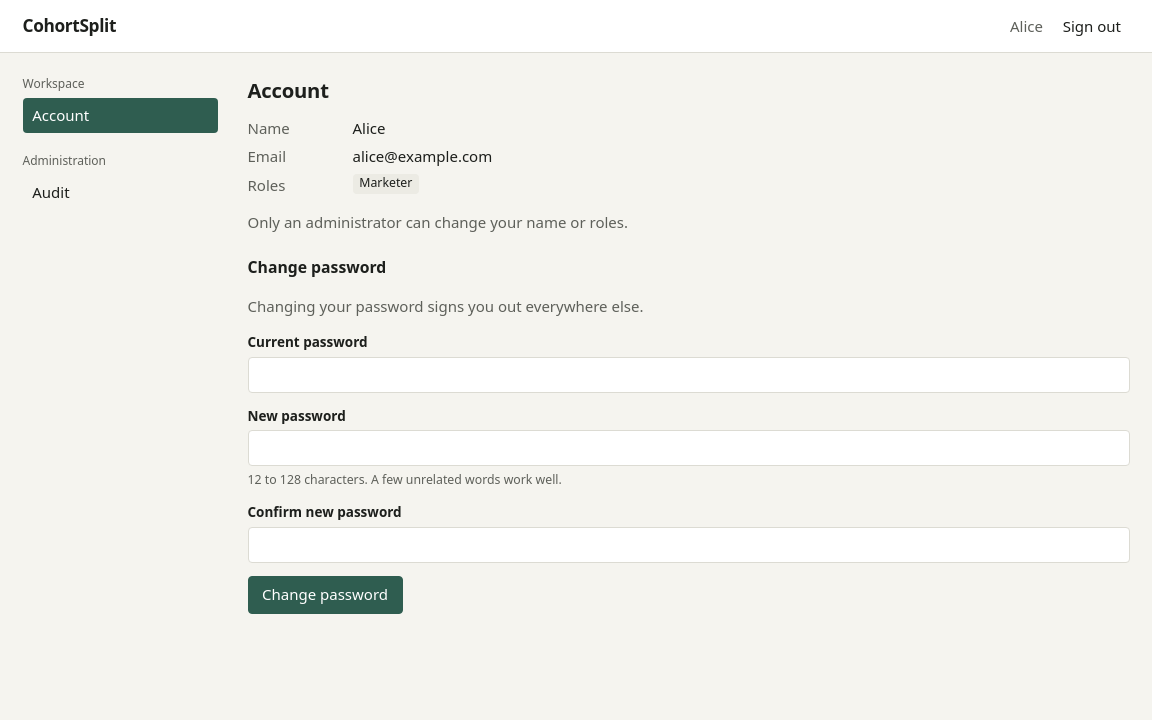
Test: Dashboard tabs follow effective permissions (AC-A23, AC-A24) › returns to sign-in when the session expires mid-use
Click the link "Audit": (51,192) [32,182,70,202]
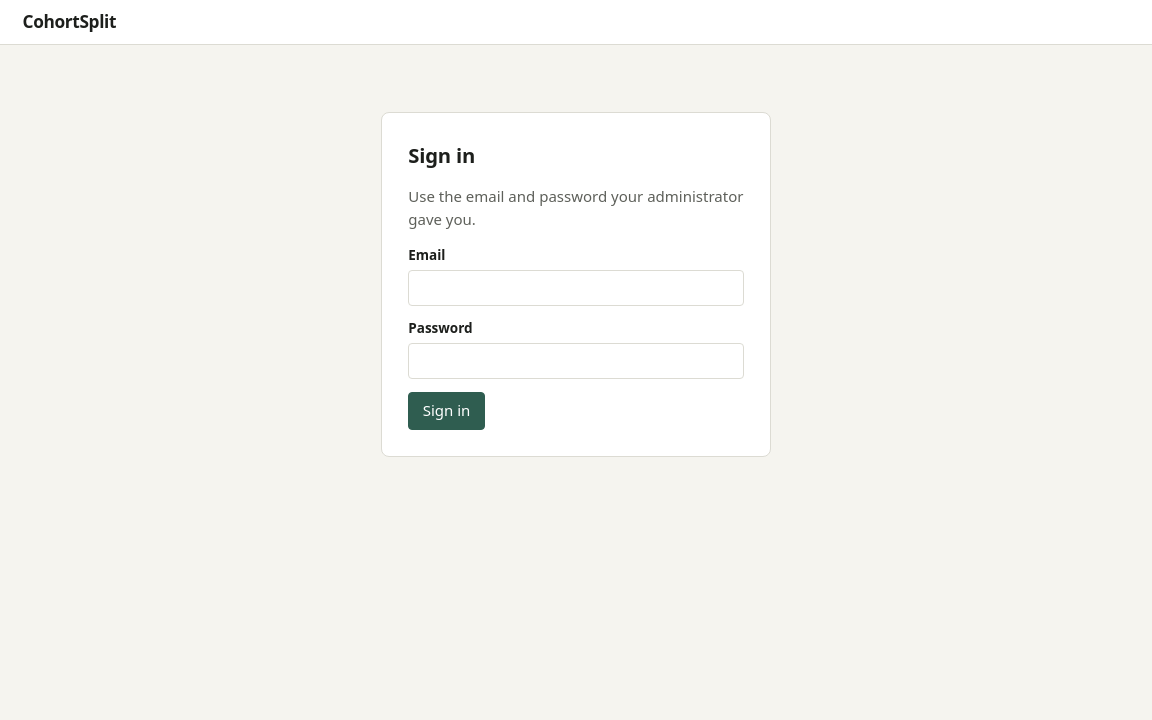
Expected: the heading "Sign in" is shown, [408,141,475,169]
